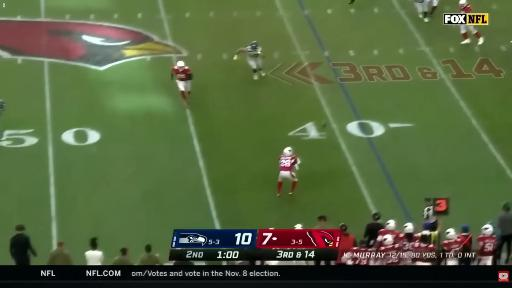Helmet: (445, 228, 457, 240), (420, 231, 431, 243), (482, 224, 493, 235), (382, 235, 393, 245), (386, 220, 395, 230), (404, 223, 413, 233), (283, 147, 292, 155), (251, 41, 258, 49), (459, 0, 467, 6), (177, 61, 185, 67)
Jersey: (397, 234, 418, 264), (442, 239, 462, 265), (378, 244, 402, 265), (413, 243, 435, 264), (376, 229, 400, 248), (351, 248, 375, 265), (477, 236, 497, 256), (396, 234, 418, 251), (279, 155, 297, 171), (172, 66, 191, 81), (246, 47, 261, 58), (460, 5, 471, 13)
Player: (234, 42, 265, 79), (277, 147, 299, 196), (172, 61, 192, 107), (397, 223, 418, 264), (477, 225, 498, 265), (412, 231, 435, 265), (376, 235, 402, 265), (442, 229, 462, 265), (347, 240, 375, 265), (375, 220, 400, 248), (460, 25, 483, 45), (414, 0, 429, 22), (430, 0, 439, 17)
